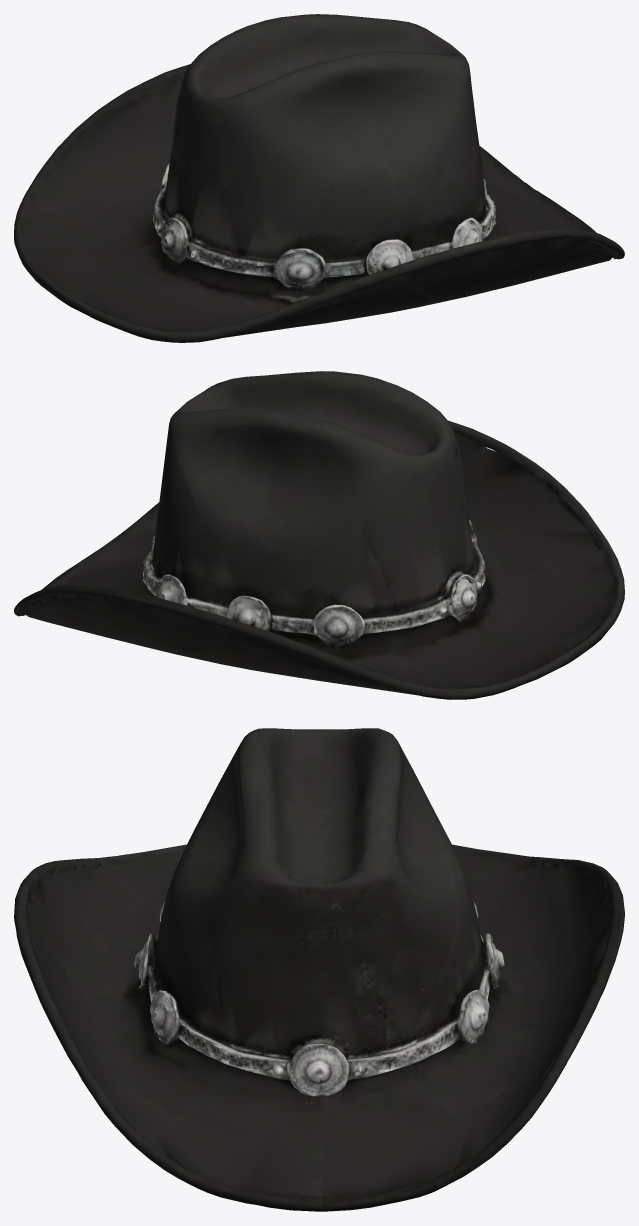
File: iblo-sombrero.d318008c.glb
3 renders of one model, top to bottom at view 1: azimuth 30°, elevation 25°; view 2: azimuth 150°, elevation 25°; view 3: azimuth 270°, elevation 25°, orthographic. The views are drawn at different scales.
Visible parts, largest first — view 1: tripo_node_30dcfd85-3a95-4e55-bc8b-b9cbebdf0dd2; view 2: tripo_node_30dcfd85-3a95-4e55-bc8b-b9cbebdf0dd2; view 3: tripo_node_30dcfd85-3a95-4e55-bc8b-b9cbebdf0dd2.
Boxes of the visible parts, x1,y1,x2,y2 form: tripo_node_30dcfd85-3a95-4e55-bc8b-b9cbebdf0dd2: (14,14,624,342); tripo_node_30dcfd85-3a95-4e55-bc8b-b9cbebdf0dd2: (14,371,624,699); tripo_node_30dcfd85-3a95-4e55-bc8b-b9cbebdf0dd2: (14,728,624,1211).
Size of the model in its own units: 1 by 0.4586 by 0.8526.
Materials: 1 (1 with a texture image).
